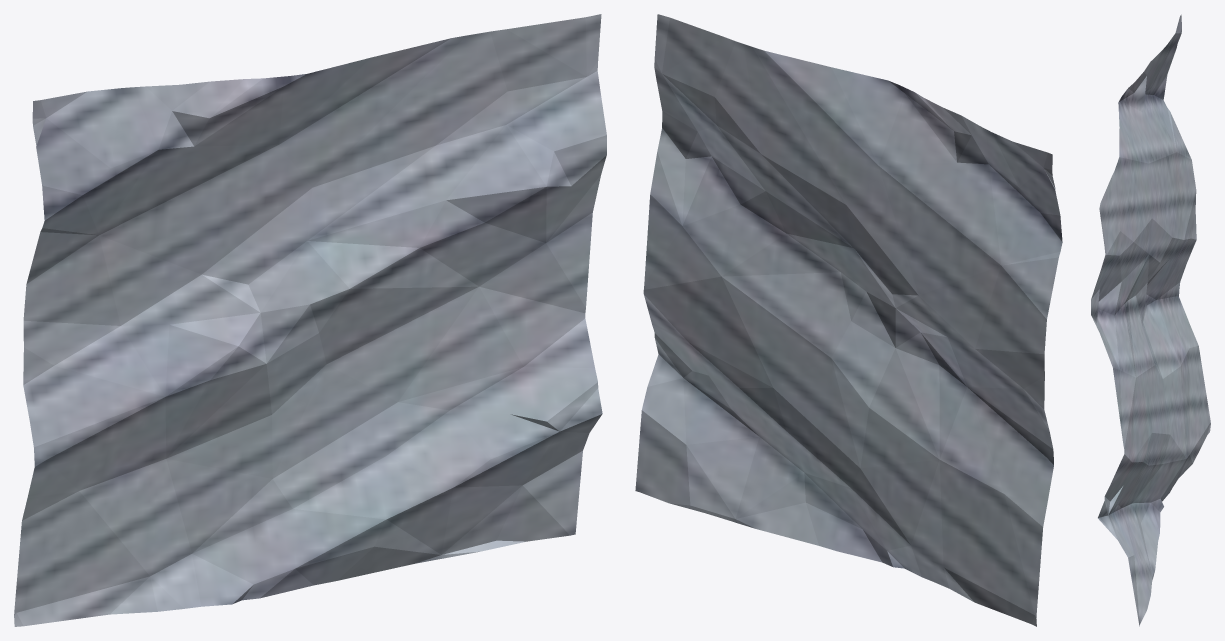
Rendered from Tile_+003_+008_L24_0032203.obj.
3 views of the same model, side by side, from view 1: azimuth 30°, elevation 25°; view 2: azimuth 150°, elevation 25°; view 3: azimuth 270°, elevation 25° (orthographic). The views are drawn at different scales.
Bounding box in the file's own units: 0.9531 × 0.9531 × 0.2479.
1 material, 1 textured.
